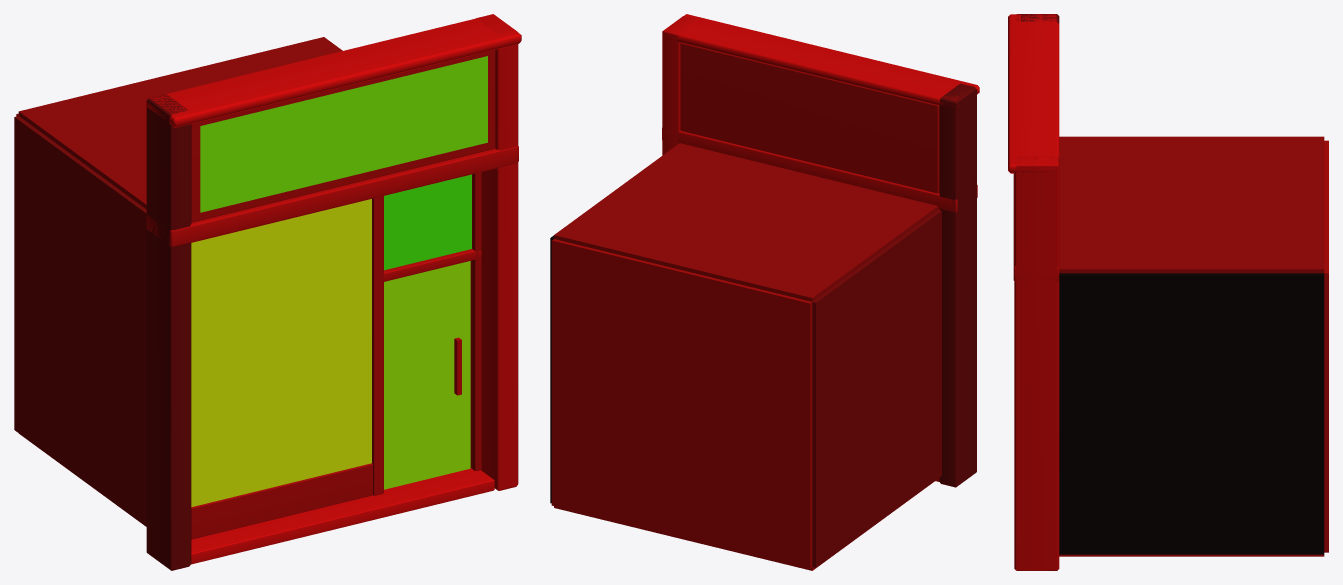
The model's file is shop_window_a.glb.
The picture shows the model from 3 angles, left to right: view 1: azimuth 30°, elevation 25°; view 2: azimuth 150°, elevation 25°; view 3: azimuth 270°, elevation 25°; orthographic projection. The views are drawn at different scales.
Parts seen in each view (by area): view 1: shop_window_a; view 2: shop_window_a; view 3: shop_window_a.
Part boxes in pixels (x1,y1,x2,y2): shop_window_a: (14, 14, 521, 570); shop_window_a: (550, 14, 979, 570); shop_window_a: (1008, 14, 1328, 570).
Bounding box in the file's own units: 4 × 5 × 3.57.
